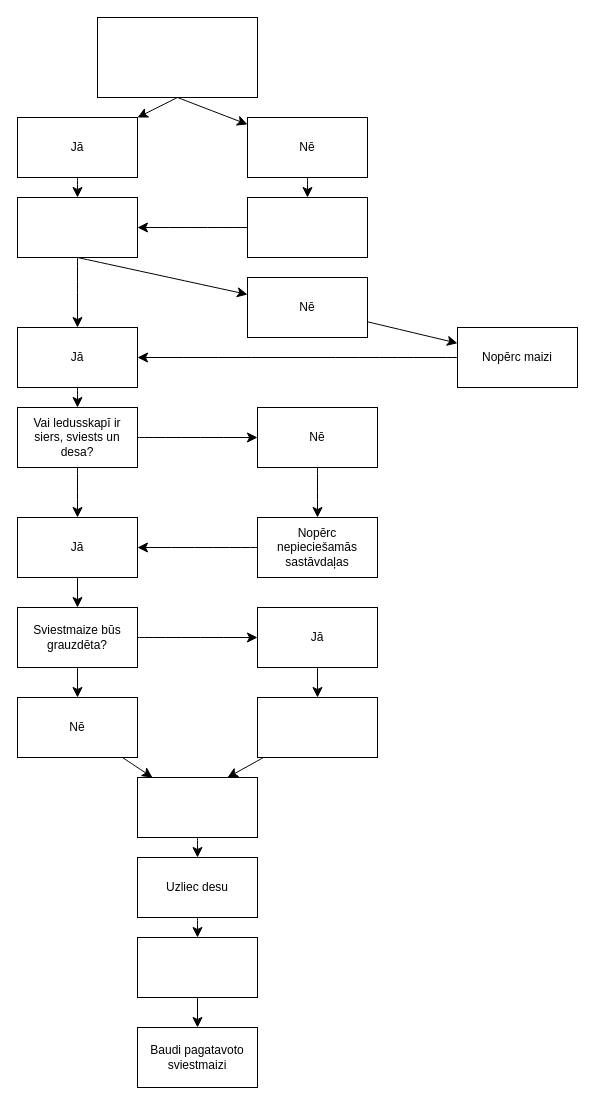
Image size: 595x1105. Some labels were removed from this diagram. The shapes that lost their labels are listed below. From the top down, each one's centre as x and y in pixels, then its label:
point 177,57: Vai tu esi virtuvē?
point 77,227: Vai virtuvē ir maize?
point 307,227: Aizej uz virtuvi
point 317,727: Uzgrauzdē maizi
point 197,807: Uzsmērē sviestu
point 197,967: Uzliec sieru
